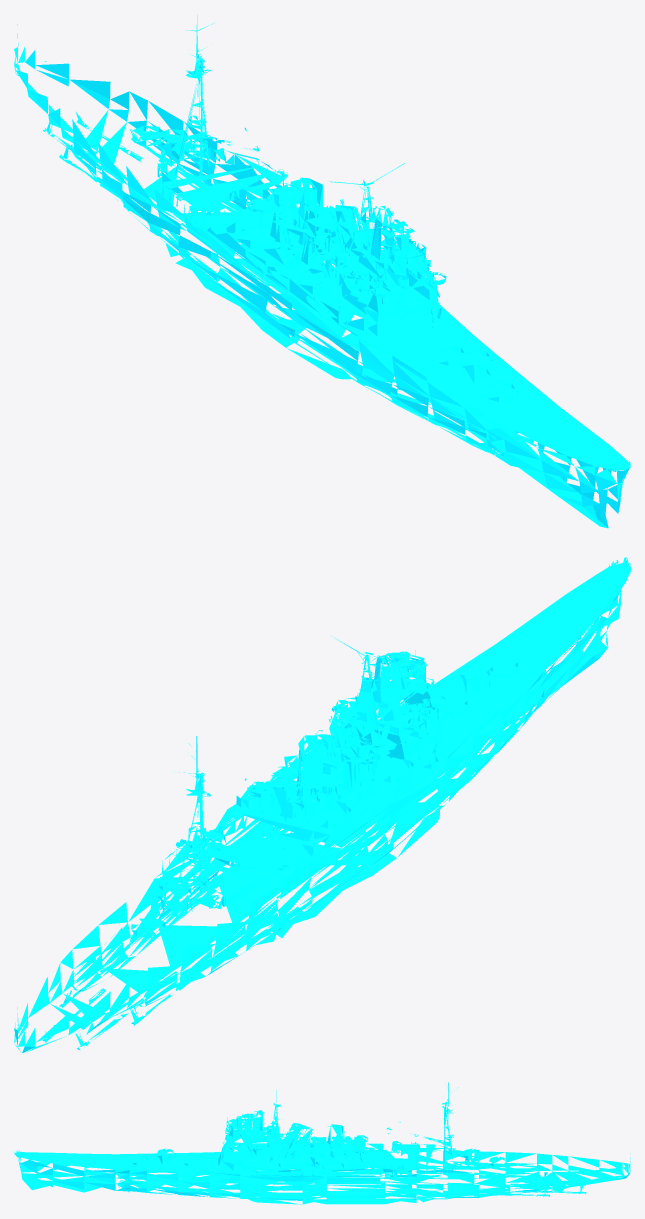
Rendered from ARP_Maya.glb.
The picture shows the model from 3 angles, top to bottom: view 1: azimuth 30°, elevation 25°; view 2: azimuth 150°, elevation 25°; view 3: azimuth 270°, elevation 25°; orthographic projection. The views are drawn at different scales.
Bounding box in the file's own units: 1.53 × 2.68 × 13.61.
